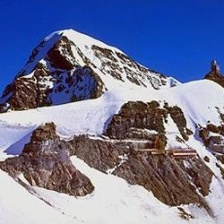neutral: (5, 11, 224, 222)
